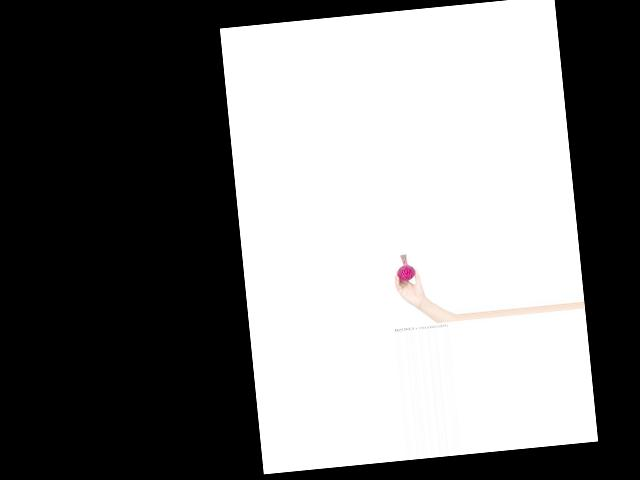beet: (394, 253, 415, 281)
